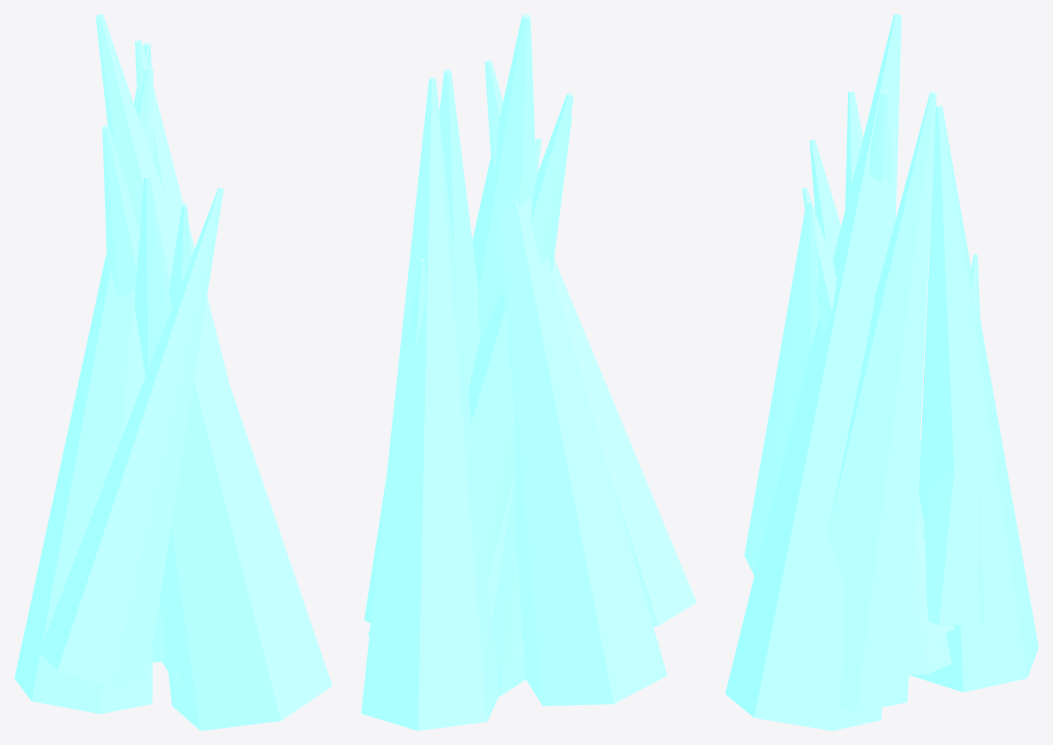
File: Prop_Tiberium.fbx
3 renders of one model, left to right at view 1: azimuth 30°, elevation 25°; view 2: azimuth 150°, elevation 25°; view 3: azimuth 270°, elevation 25°, orthographic. The views are drawn at different scales.
Parts seen in each view (by area): view 1: Body.009; view 2: Body.009; view 3: Body.009.
Part boxes in pixels (box(x1,y1,x2,y2)): Body.009: box(14, 14, 332, 730); Body.009: box(361, 14, 696, 730); Body.009: box(725, 14, 1038, 730).
Bounding box in the file's own units: 1.43 × 3.42 × 1.48.
